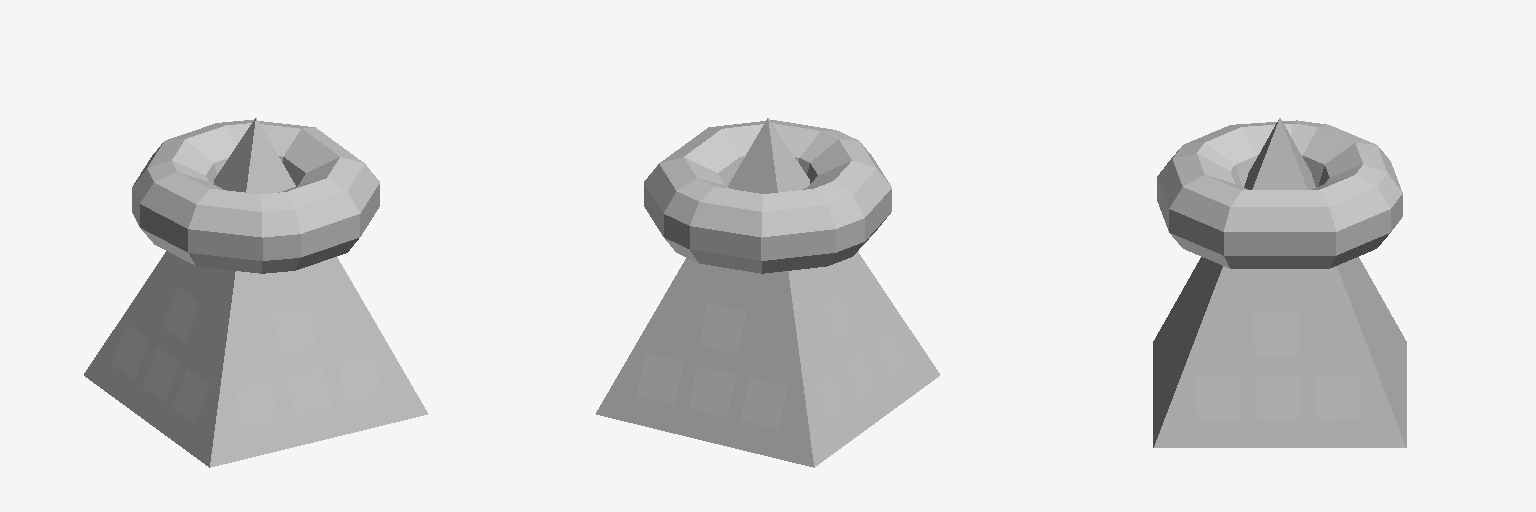
File: BuildingV5.obj
3 renders of one model, left to right at view 1: azimuth 30°, elevation 25°; view 2: azimuth 150°, elevation 25°; view 3: azimuth 270°, elevation 25°, orthographic.
Visible parts, largest first — view 1: pPyramid4; view 2: pPyramid4; view 3: pPyramid4.
Part boxes in pixels (bbox=[...]): pPyramid4: bbox=[84, 118, 427, 467]; pPyramid4: bbox=[596, 118, 939, 467]; pPyramid4: bbox=[1153, 118, 1406, 447].
Bounding box in the file's own units: 3 × 3.63 × 3.